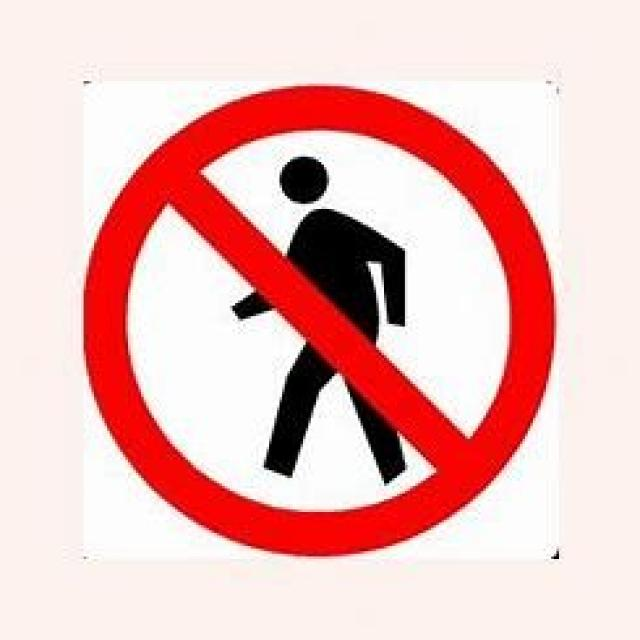Priority road: (81, 81, 556, 554)
